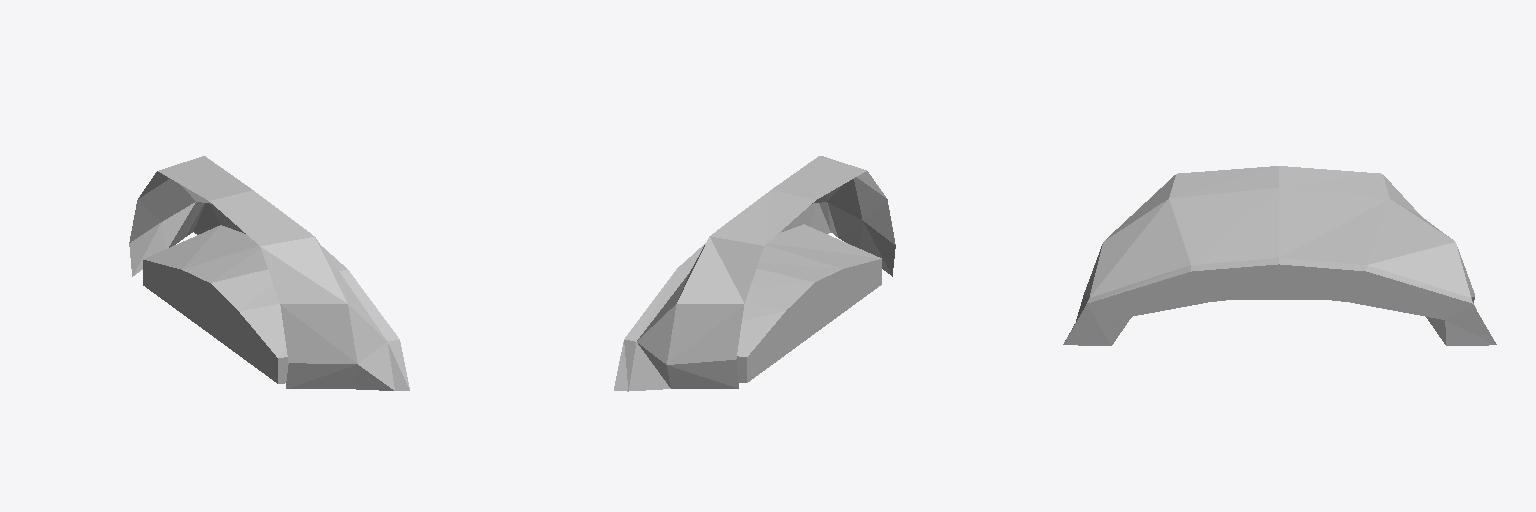
The model's file is riverSource.obj.
The picture shows the model from 3 angles: view 1: azimuth 30°, elevation 25°; view 2: azimuth 150°, elevation 25°; view 3: azimuth 270°, elevation 25°; orthographic projection.
Parts seen in each view (by area): view 1: riverSource; view 2: riverSource; view 3: riverSource.
Boxes of the visible parts, x1,y1,x2,y2 form: riverSource: [129, 156, 409, 390]; riverSource: [614, 156, 895, 391]; riverSource: [1063, 166, 1496, 345].
Bounding box in the file's own units: 1 × 1.35 × 3.97.